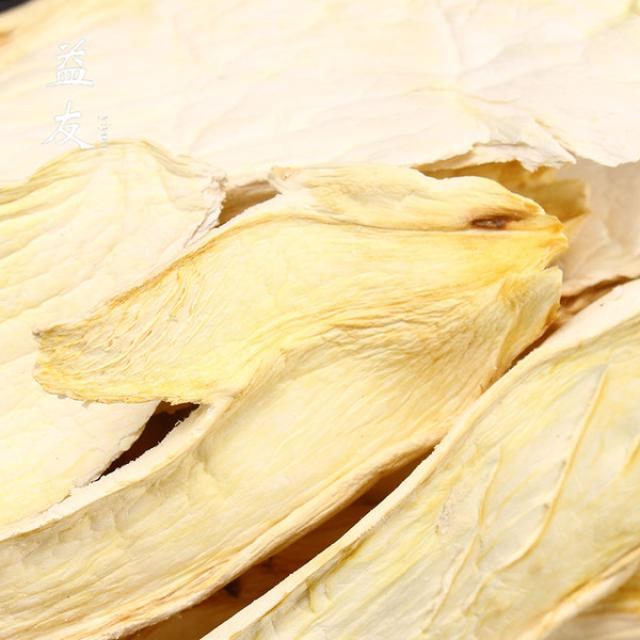Pleurotus eryngii: (0, 281, 533, 628), (237, 292, 639, 640)
